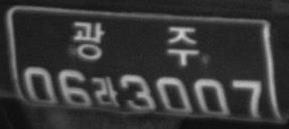0: (193, 76, 231, 116), (20, 65, 57, 104), (156, 74, 193, 112)
3: (120, 72, 155, 113)
6: (58, 67, 91, 107)
7: (231, 78, 264, 120)
광주_D: (71, 16, 200, 68)
라: (92, 74, 119, 107)
